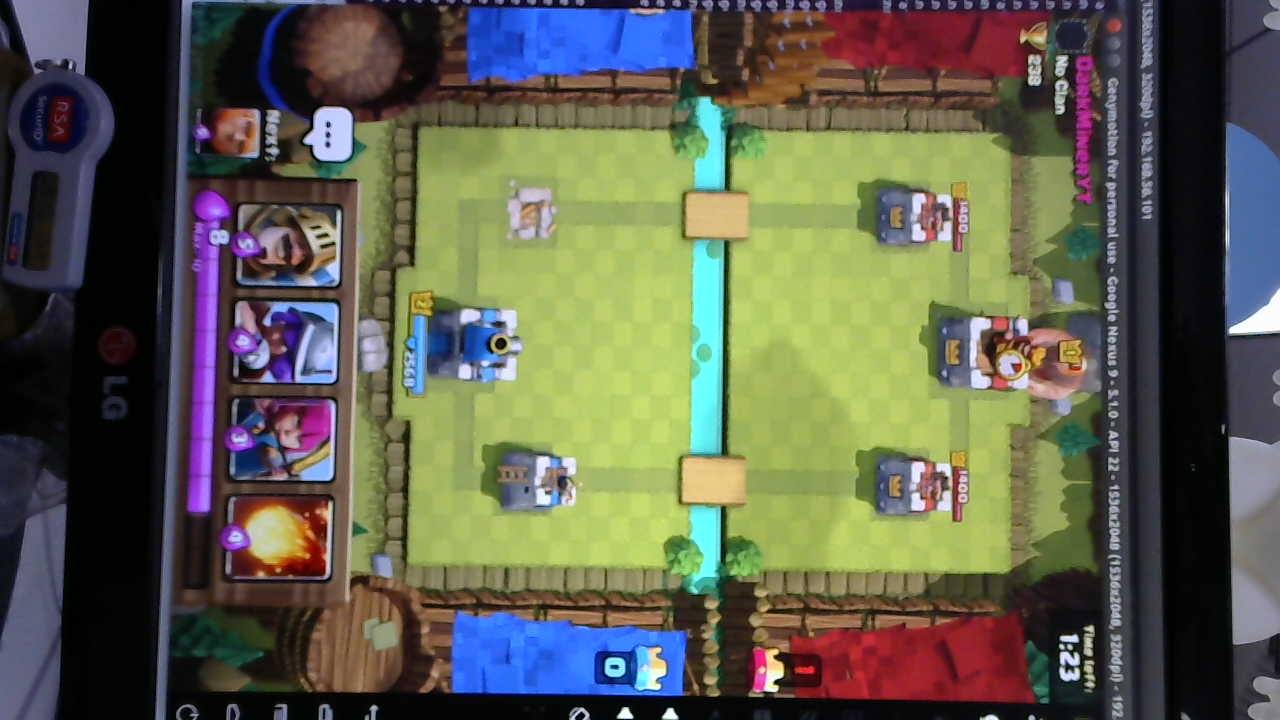arena: (492, 450, 580, 510)
darena: (502, 178, 557, 242)
earena: (869, 190, 957, 249), (870, 458, 951, 519)
eking: (936, 318, 1042, 396)
giant: (991, 325, 1087, 402)
king: (429, 309, 521, 387)
